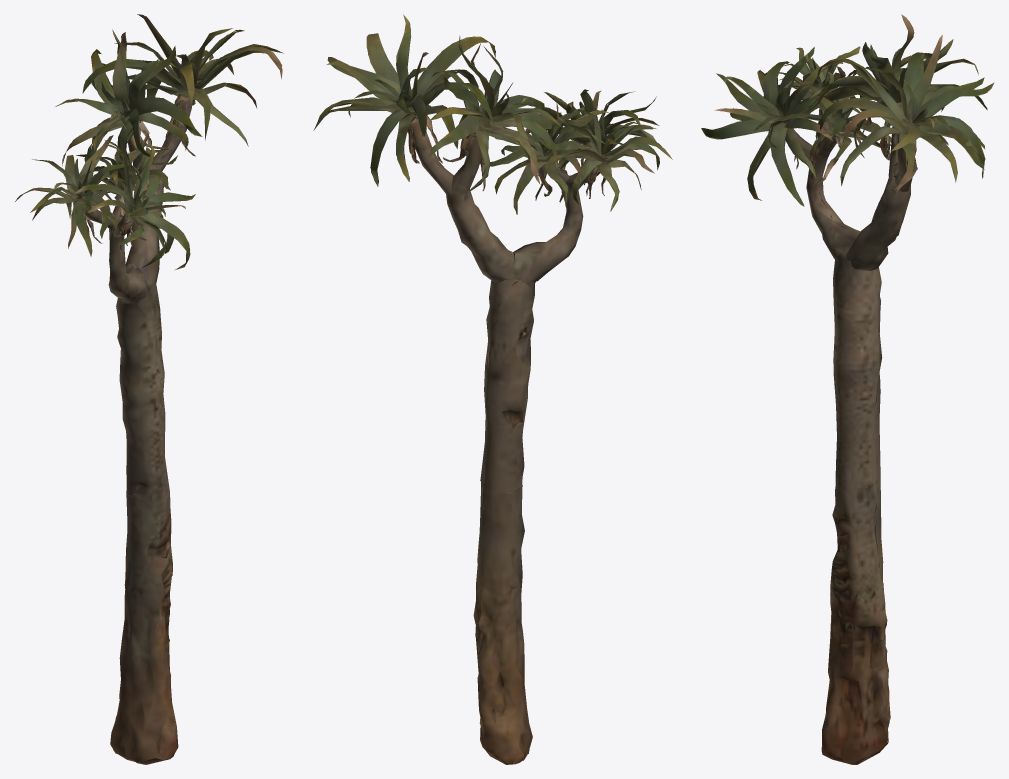
Rendered from quiver_tree.glb.
3 renders of one model, left to right at view 1: azimuth 30°, elevation 25°; view 2: azimuth 150°, elevation 25°; view 3: azimuth 270°, elevation 25°, orthographic. The views are drawn at different scales.
Visible parts, largest first — view 1: quiver_tree; view 2: quiver_tree; view 3: quiver_tree.
Boxes of the visible parts, x1,y1,x2,y2 form: quiver_tree: (15,14,283,764); quiver_tree: (313,14,672,764); quiver_tree: (701,14,994,764).
Size of the model in its own units: 1.39 by 3.2 by 1.14.
1 material, 1 textured.
